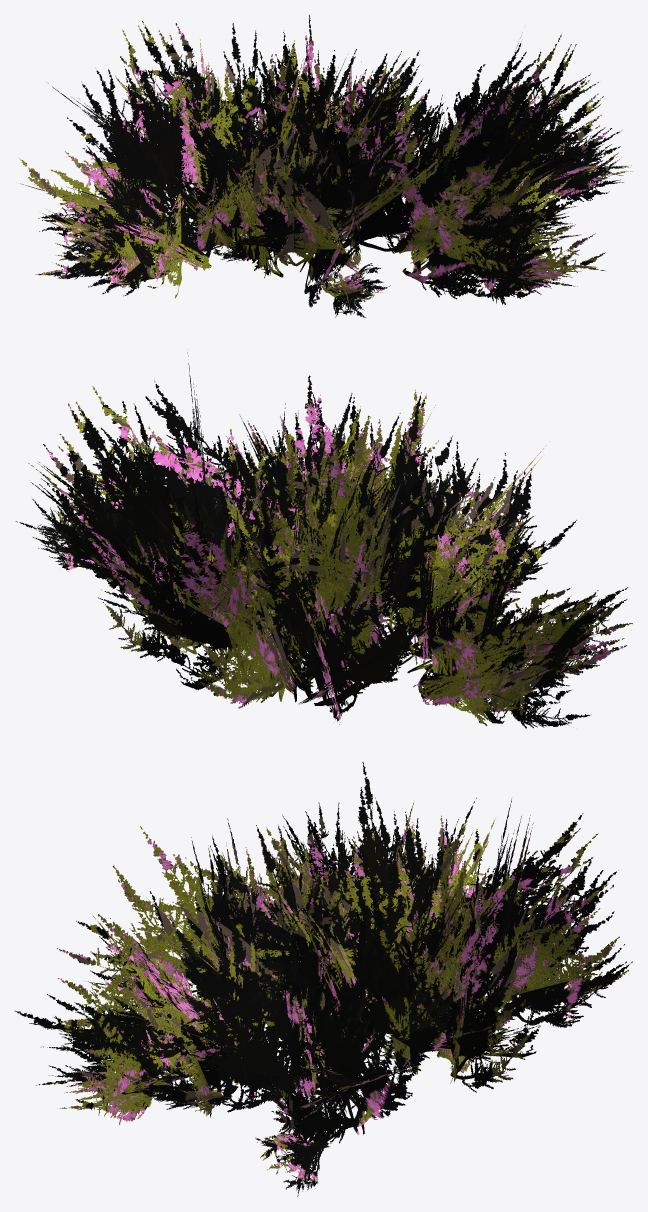
File: heather_clump_01_LOD0.fbx
3 renders of one model, top to bottom at view 1: azimuth 30°, elevation 25°; view 2: azimuth 150°, elevation 25°; view 3: azimuth 270°, elevation 25°, orthographic. The views are drawn at different scales.
Visible parts, largest first — view 1: heather_clump_01_LOD0; view 2: heather_clump_01_LOD0; view 3: heather_clump_01_LOD0.
Part boxes in pixels (<box>): heather_clump_01_LOD0: <box>19,15,632,317</box>; heather_clump_01_LOD0: <box>15,352,632,728</box>; heather_clump_01_LOD0: <box>14,762,632,1196</box>.
Size of the model in its own units: 596 by 219 by 514.
